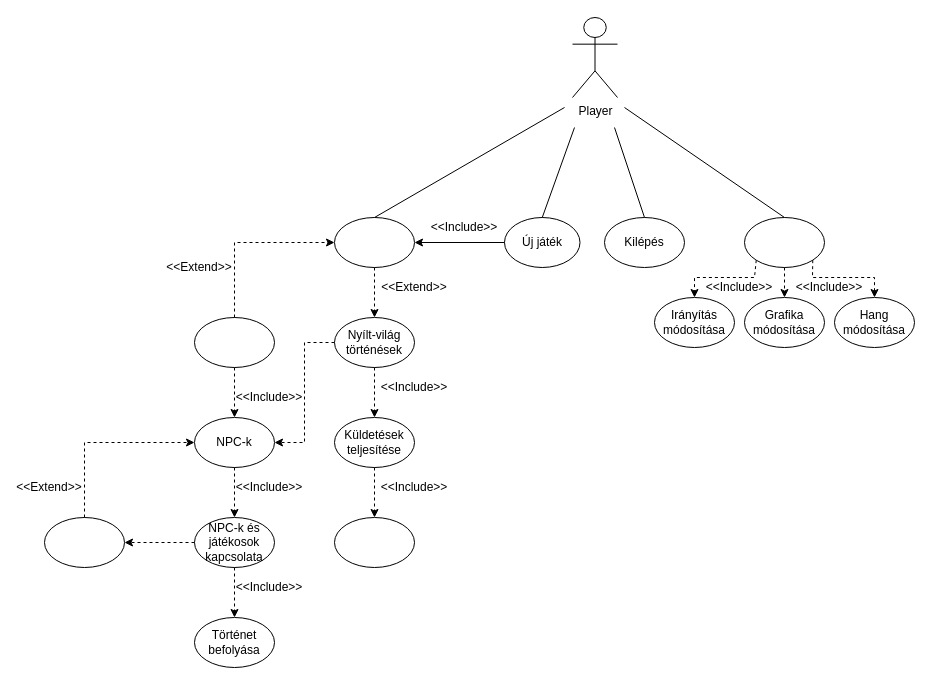
This 932x685 diagram has some shape labels left out. Each missing label, with the centre of its shape:
Az atmoszfére változása: [84,542]
Beállítások kezelése: [784,242]
Előrehaladás figyelése: [374,542]
Mentés betöltése: [374,242]
Third-person kezelése: [234,342]
